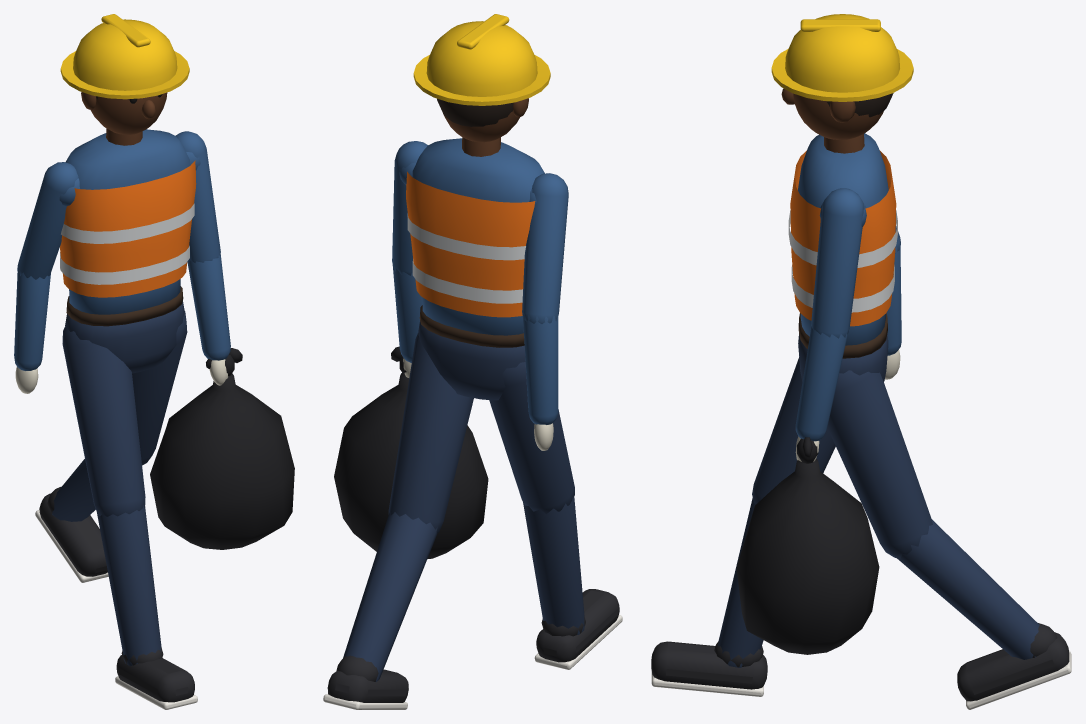
Rendered from worker_walk.fbx.
The picture shows the model from 3 angles, left to right: view 1: azimuth 30°, elevation 25°; view 2: azimuth 150°, elevation 25°; view 3: azimuth 270°, elevation 25°; orthographic projection. The views are drawn at different scales.
Parts seen in each view (by area): view 1: worker_walk; view 2: worker_walk; view 3: worker_walk.
Part boxes in pixels (<box>): worker_walk: <box>14,14,294,709</box>; worker_walk: <box>323,14,622,709</box>; worker_walk: <box>651,14,1071,709</box>.
Bounding box in the file's own units: 0.6926 × 1.75 × 0.9773.
